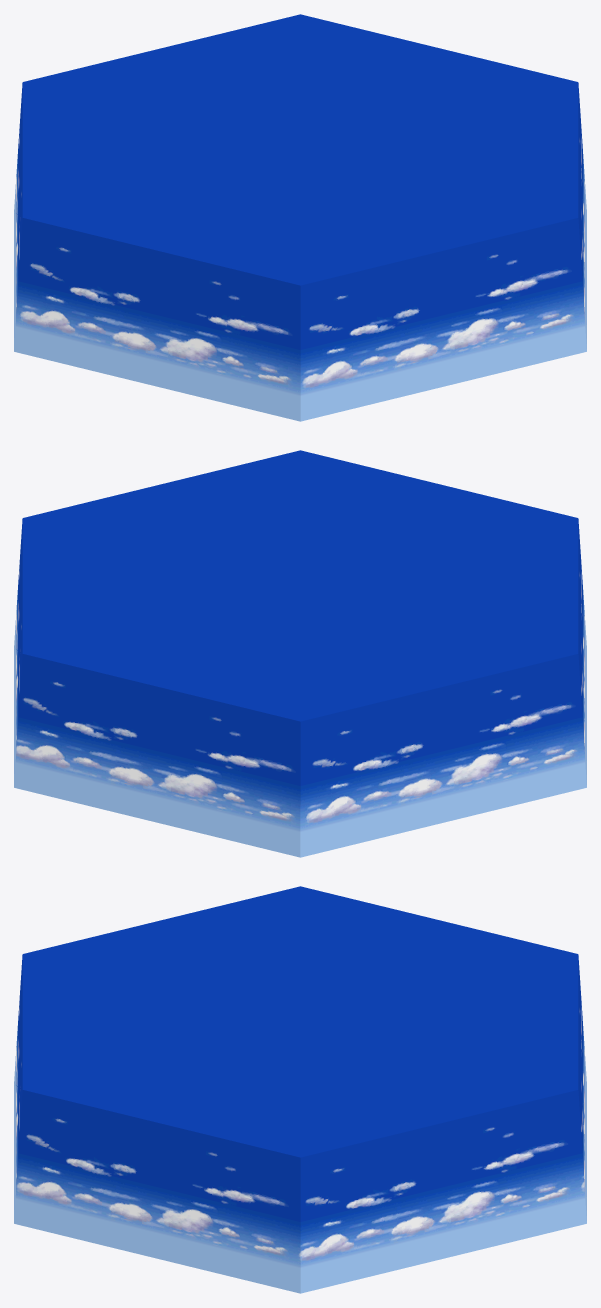
Rendered from ridge_course_V.glb.
The picture shows the model from 3 angles, top to bottom: view 1: azimuth 30°, elevation 25°; view 2: azimuth 150°, elevation 25°; view 3: azimuth 270°, elevation 25°; orthographic projection.
Parts seen in each view (by area): view 1: ridge_course_V; view 2: ridge_course_V; view 3: ridge_course_V.
Boxes of the visible parts, box(x1,y1,x2,y2) form: ridge_course_V: box(14, 14, 586, 421); ridge_course_V: box(14, 450, 586, 857); ridge_course_V: box(14, 886, 586, 1293).
Size of the model in its own units: 1445 by 391 by 1251.
Materials: 2 (2 with a texture image).
